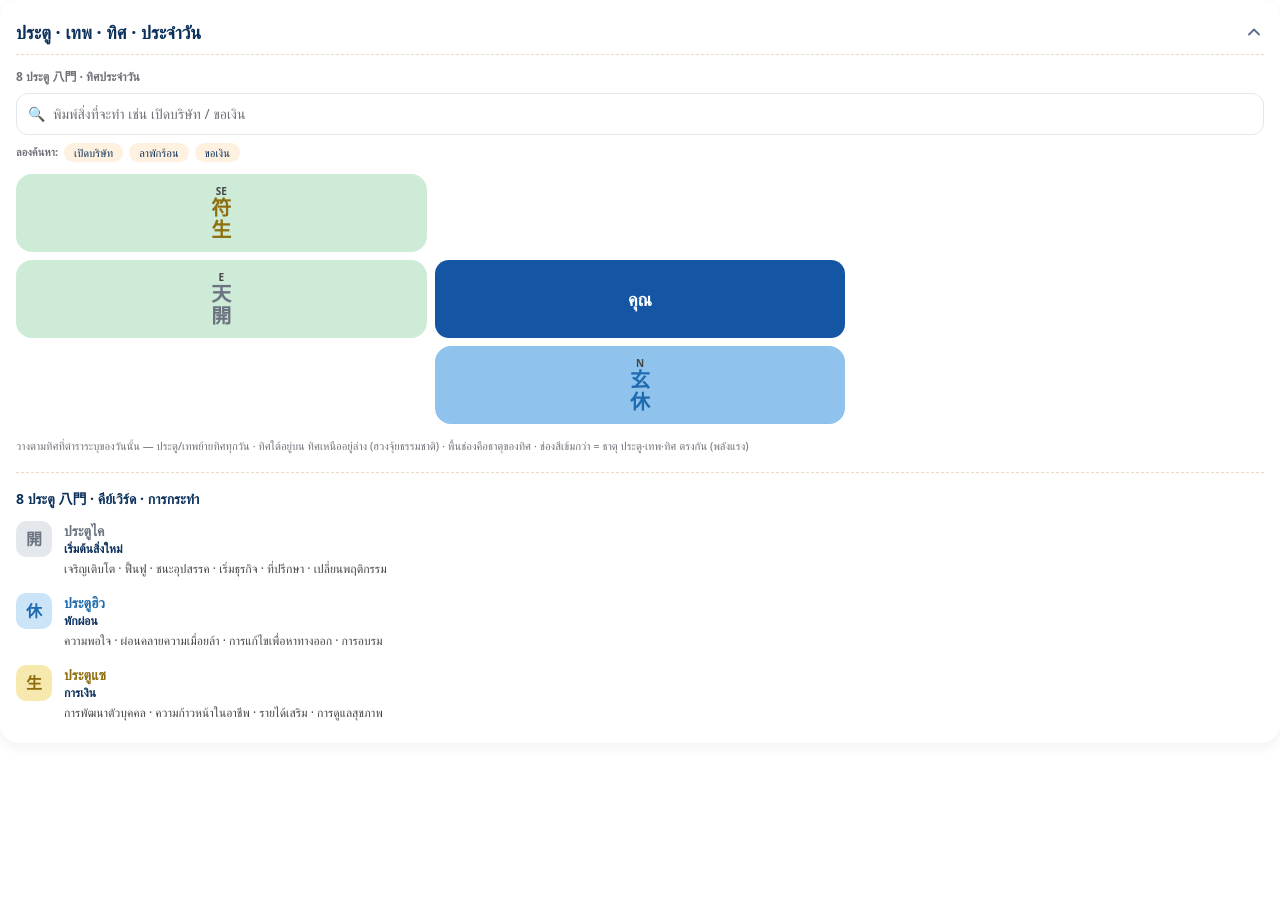
Test case: C · กดช่องประตู → popup รายละเอียด ประตู+เทพ (#2/#4 ซินแสนุ้ย 2026-09-15) › กดช่อง 開/E → popup โผล่ โชว์ ประตู(ไค/เริ่มต้นสิ่งใหม่) + เทพ(ที/วิสัยทัศน์), กดปิดแล้วหาย
Click the button with test id "gate-cell" showing "E 天 開" at (221, 299), box [16,260,427,338]
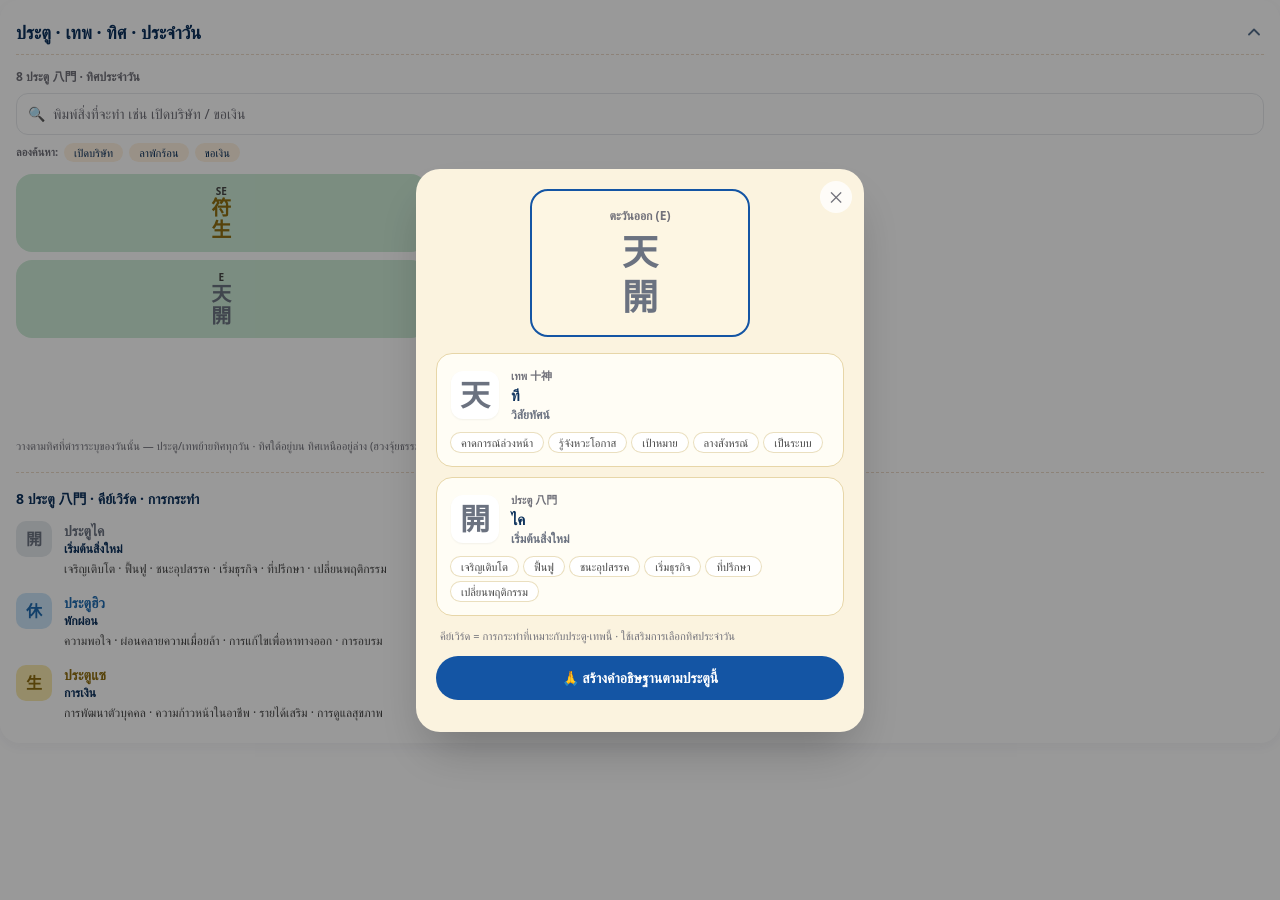
Now the dialog with test id "gate-detail-popup" shows "ไค", box [511,509,525,529]
Now the dialog with test id "gate-detail-popup" shows "เริ่มต้นสิ่งใหม่", box [511,530,570,546]
Now the dialog with test id "gate-detail-popup" shows "ที", box [511,385,520,405]
Note: ปิด popup
Click the button with test id "gate-detail-close" at (836, 196), box [820,180,852,212]
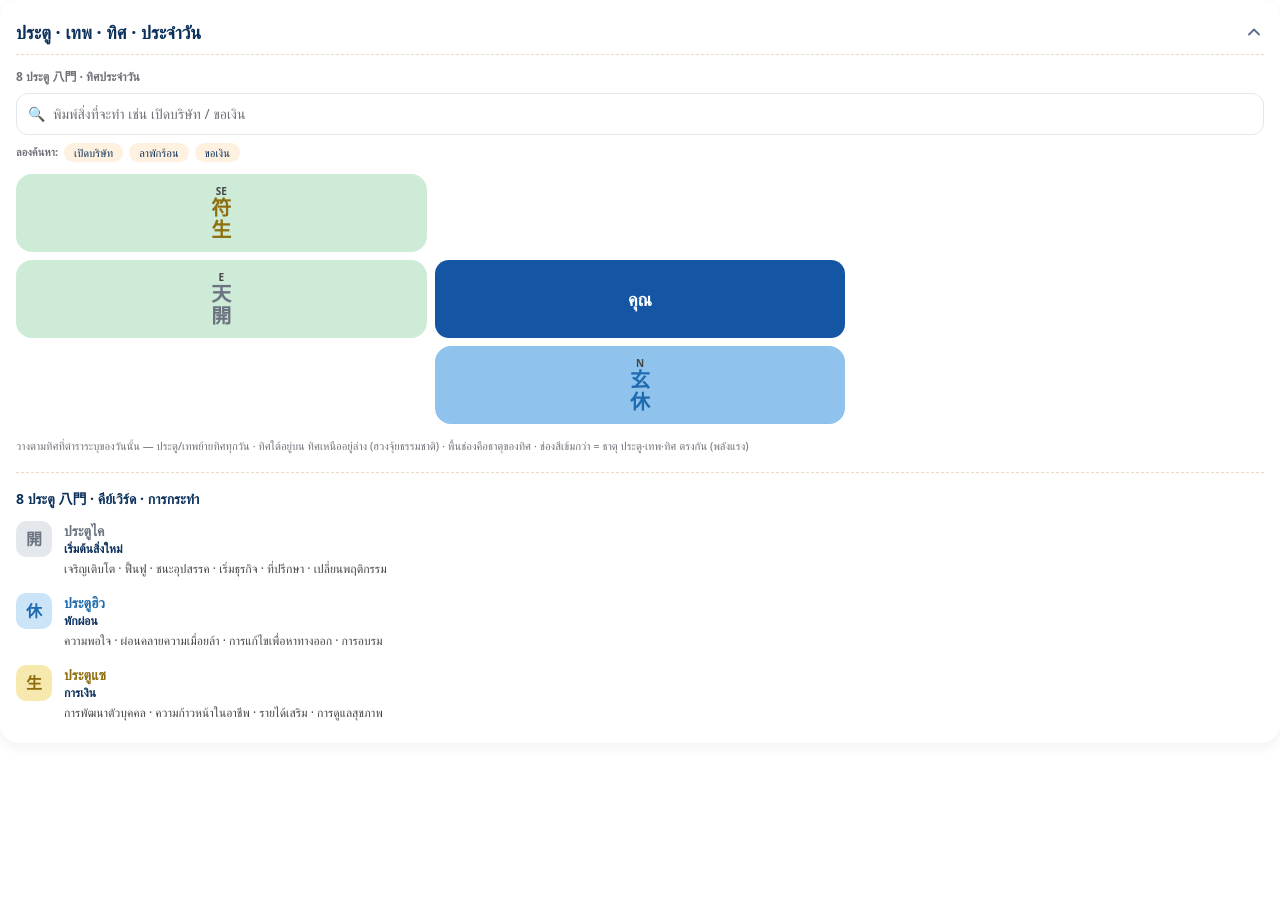
Now the dialog with test id "gate-detail-popup" is gone
